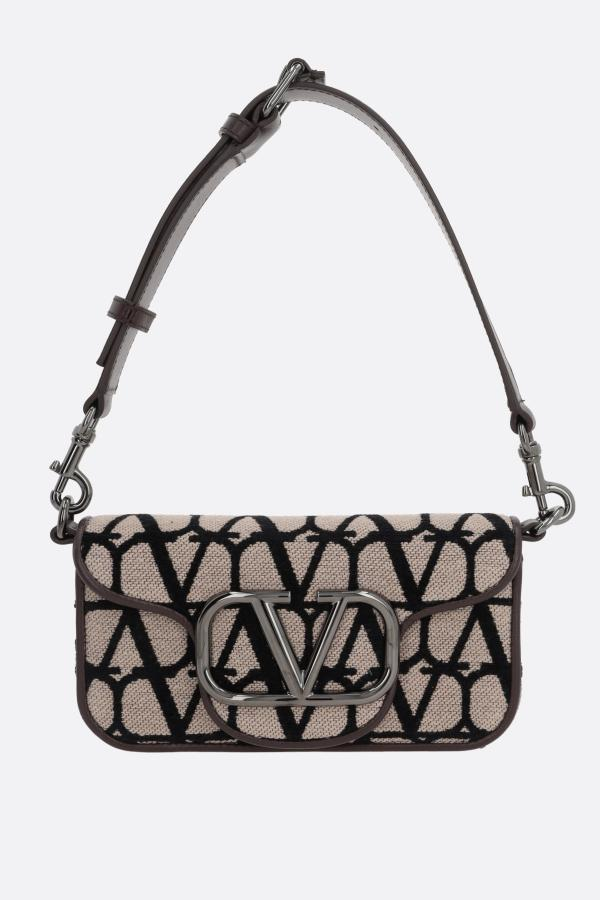VALENTINO: (196, 590, 399, 705)
